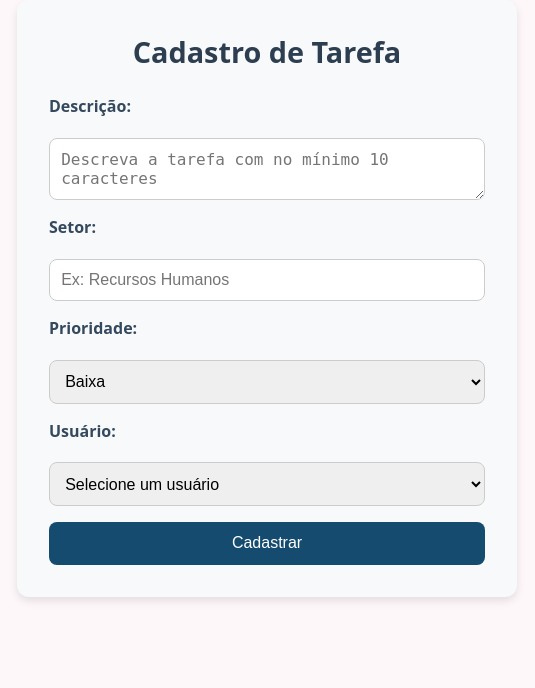
CadastroTarefa - Testes completos › 5. Deve exibir erro se o setor estiver vazio
Type "Descrição válida" into the text box labelled "Descrição:" at (267, 169), box x1=49 y1=138 x2=485 y2=200
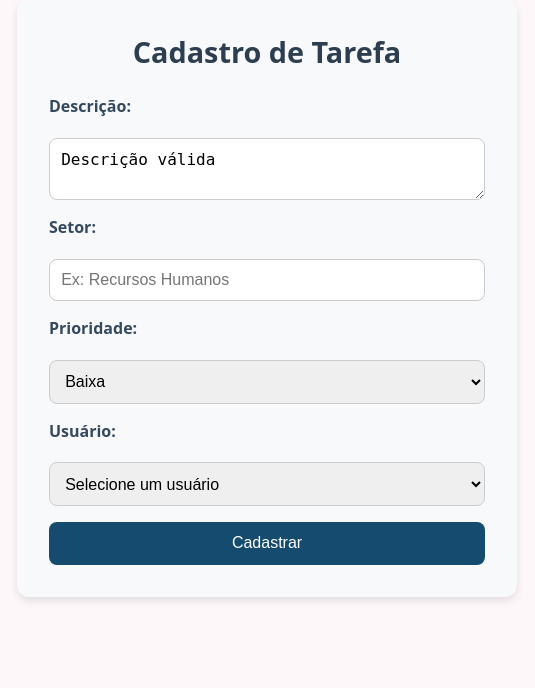
Select "1" in the dropdown labelled "Usuário:" at (267, 484), box x1=49 y1=462 x2=485 y2=506
Click the button at (267, 544), box x1=49 y1=522 x2=485 y2=565
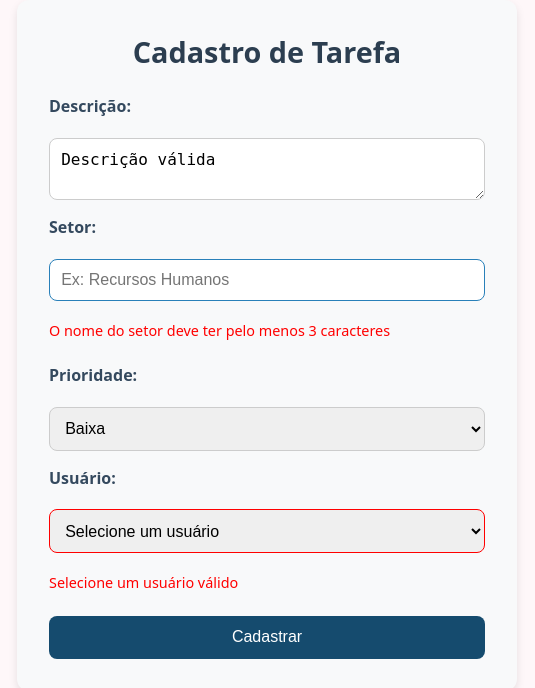
Expected: the text "O nome do setor deve ter pelo menos 3 caracteres" is shown, x1=49 y1=321 x2=390 y2=340
